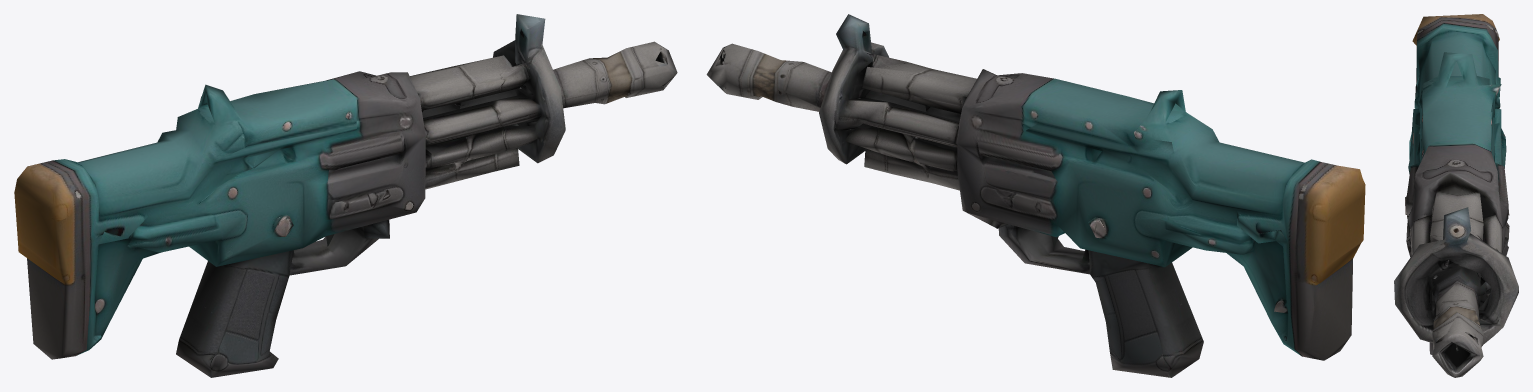
The model's file is weapon_minigun_1500_v2.glb.
3 renders of one model, left to right at view 1: azimuth 30°, elevation 25°; view 2: azimuth 150°, elevation 25°; view 3: azimuth 270°, elevation 25°, orthographic.
Parts seen in each view (by area): view 1: tripo_node_29fab3a3-eb4a-4cb2-bb06-e5c8192fdbf0; view 2: tripo_node_29fab3a3-eb4a-4cb2-bb06-e5c8192fdbf0; view 3: tripo_node_29fab3a3-eb4a-4cb2-bb06-e5c8192fdbf0.
Part boxes in pixels (box(x1,y1,x2,y2)): tripo_node_29fab3a3-eb4a-4cb2-bb06-e5c8192fdbf0: box(14, 14, 677, 377); tripo_node_29fab3a3-eb4a-4cb2-bb06-e5c8192fdbf0: box(706, 14, 1365, 377); tripo_node_29fab3a3-eb4a-4cb2-bb06-e5c8192fdbf0: box(1394, 14, 1518, 377).
Bounding box in the file's own units: 0.979 × 0.4325 × 0.1686.
1 material, 1 textured.
